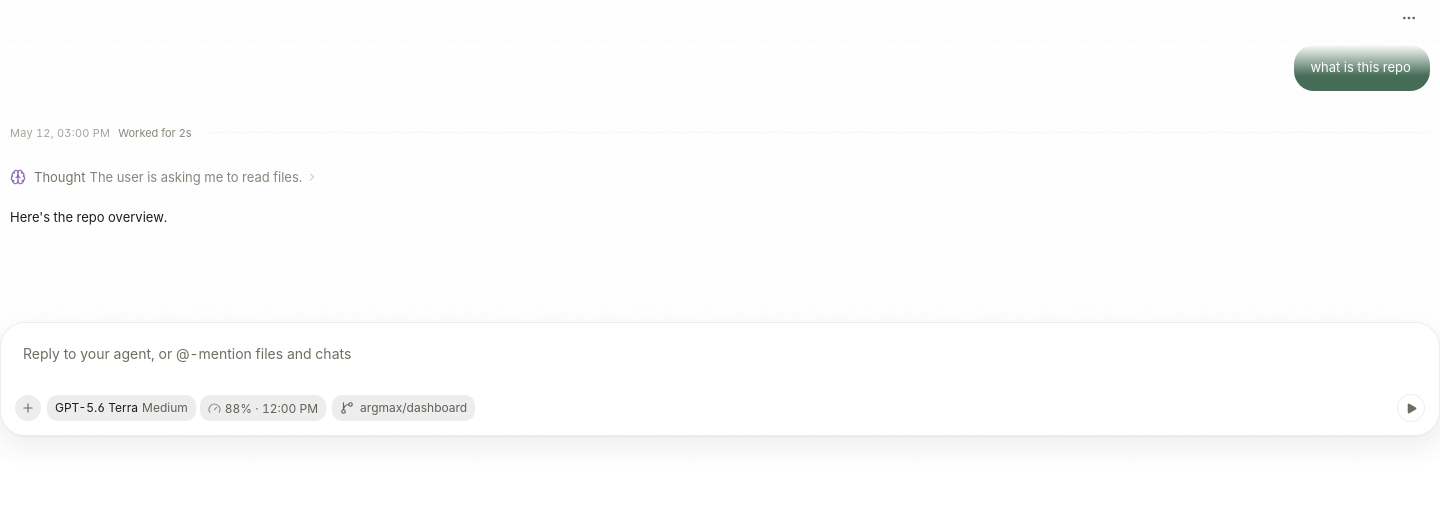
Test: SessionConversation — streaming & composer › renders settled Steps thinking as a collapsed Thought block beside the answer
This screenshot has width=1440, height=532.
Expected: the text "Here's the repo overview." is shown, [10,209,167,225]
Expected: the text "The user is asking me to read files." is shown, [90,168,302,186]
Click the button "Thought": (166,177) [10,163,322,191]
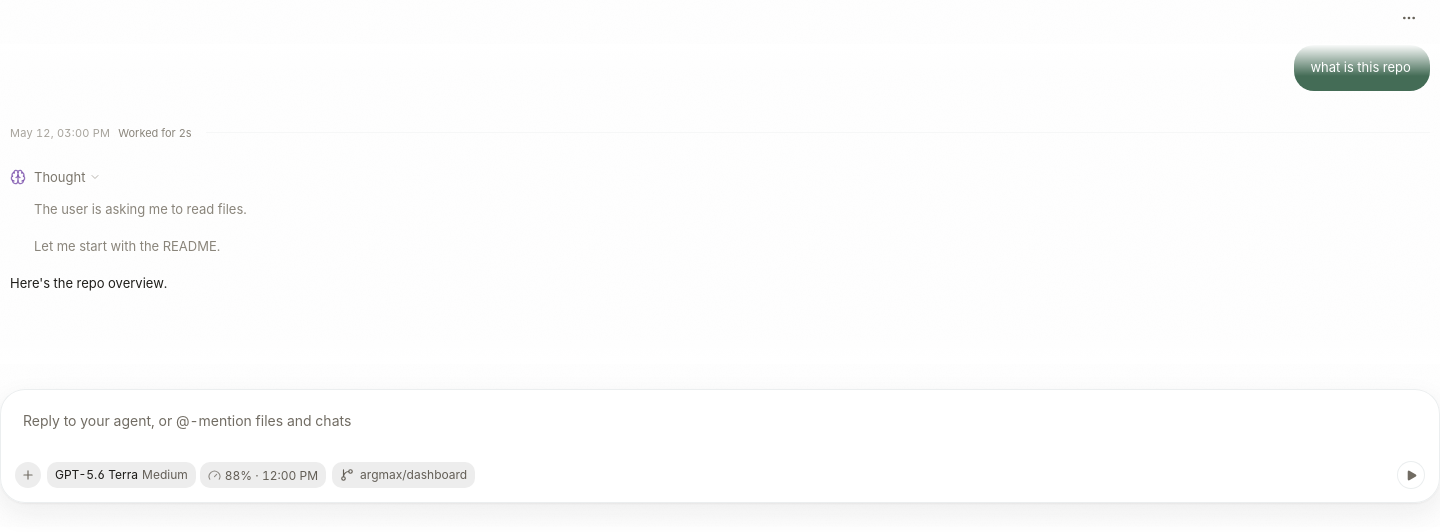
Expected: the button "Thought" is expanded, [10,163,106,191]
Expected: the text "Let me start with the README." is shown, [34,238,220,254]
